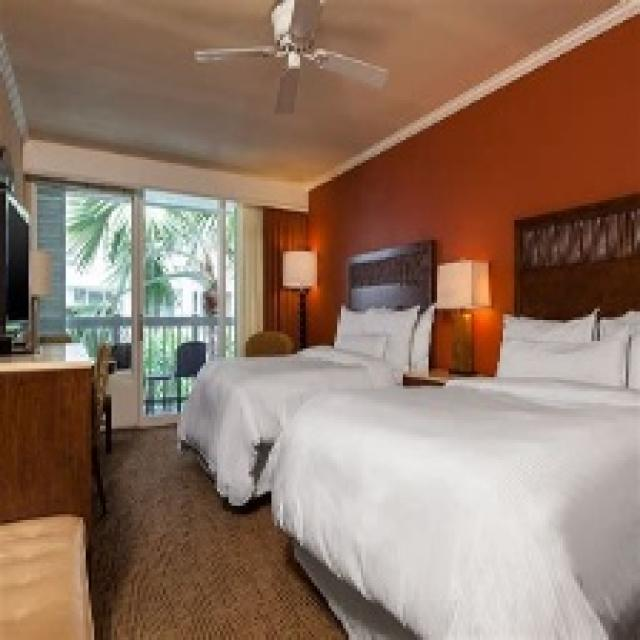Bed: (266, 180, 637, 637)
